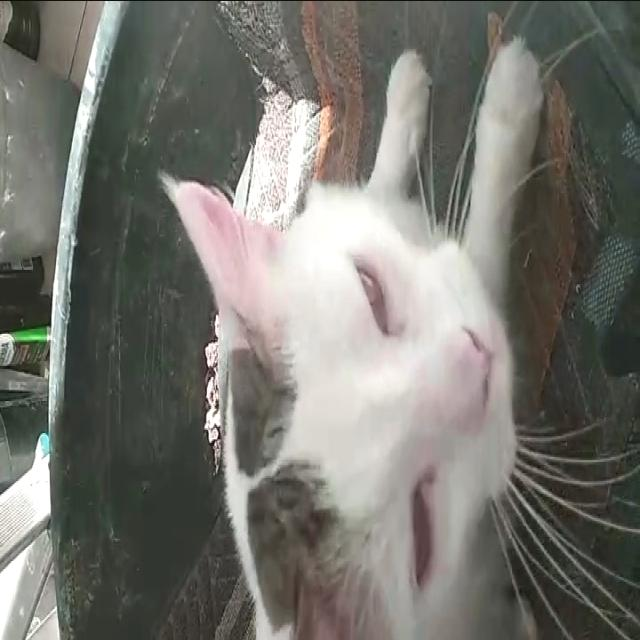Simba: (158, 29, 582, 630)
